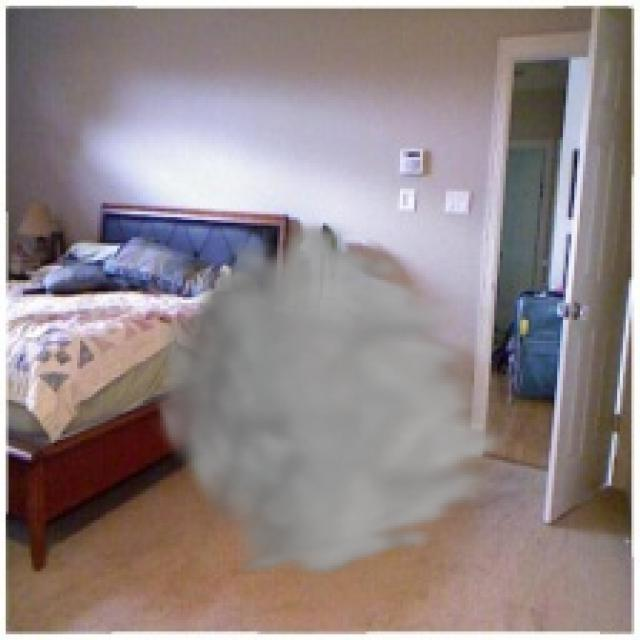smoke: (149, 217, 520, 580)
